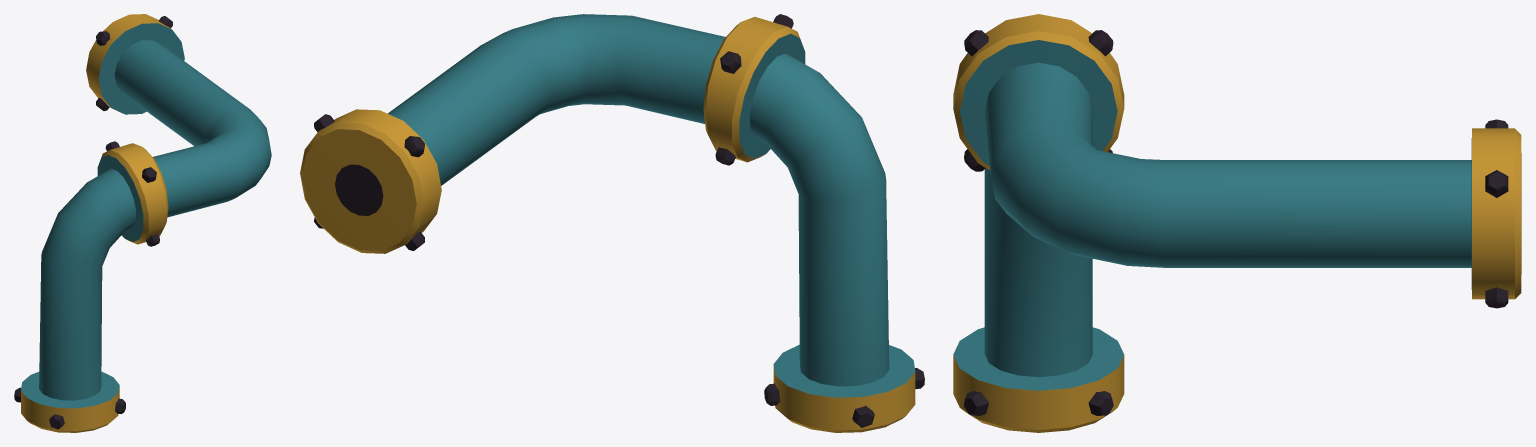
File: PipeRun_32.glb
The picture shows the model from 3 angles, left to right: view 1: azimuth 30°, elevation 25°; view 2: azimuth 150°, elevation 25°; view 3: azimuth 270°, elevation 25°; orthographic projection. The views are drawn at different scales.
Parts seen in each view (by area): view 1: PipeRun_32; view 2: PipeRun_32; view 3: PipeRun_32.
Part boxes in pixels (x1,y1,x2,y2): PipeRun_32: [14, 14, 271, 432]; PipeRun_32: [300, 14, 924, 432]; PipeRun_32: [953, 14, 1521, 432].
Size of the model in its own units: 3.39 by 2.85 by 3.42.
